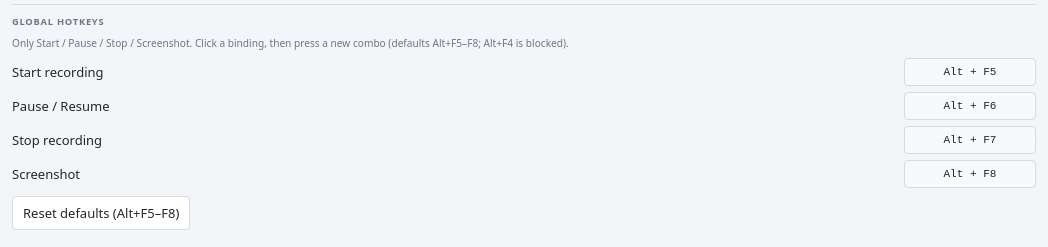
Test: HotkeySettings › enters listening mode after clicking a binding
This screenshot has width=1048, height=247.
Step 1. Click the button "Alt + F5" → [970, 72], box [904,58,1036,86]
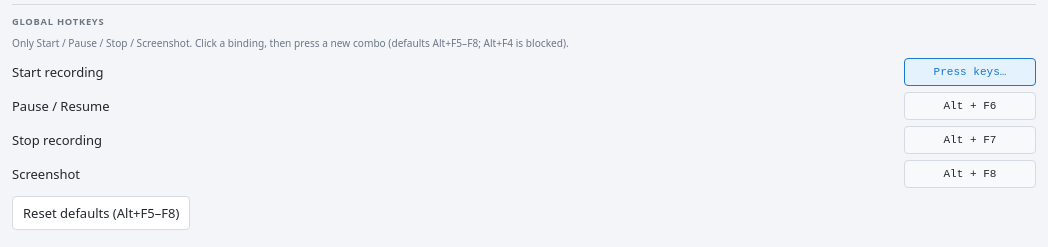
Check: the button "Press keys…" is shown, box [904,58,1036,86]
